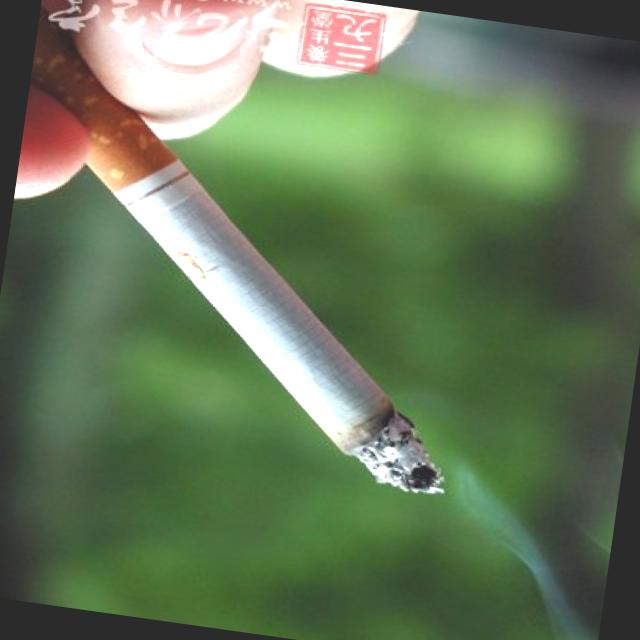cigarette: (42, 148, 491, 505)
